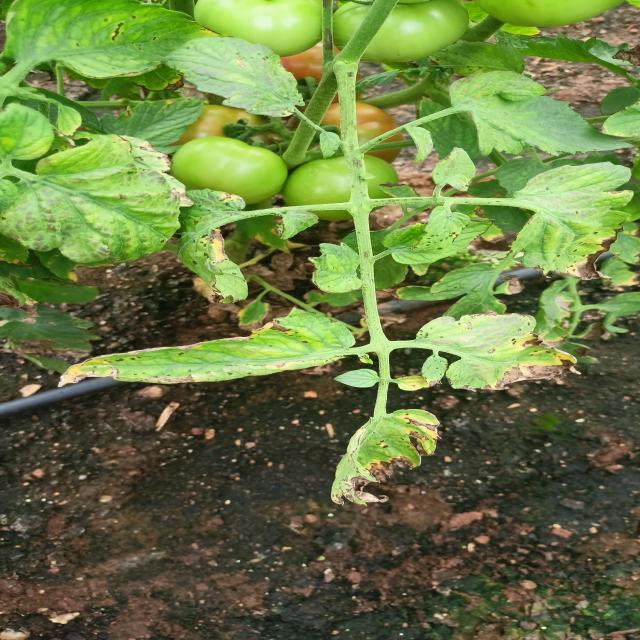Tomato mosaic virus leaf: (50, 305, 352, 394), (504, 158, 636, 284), (408, 312, 592, 394), (322, 405, 450, 510), (171, 188, 257, 308), (405, 206, 473, 253)
